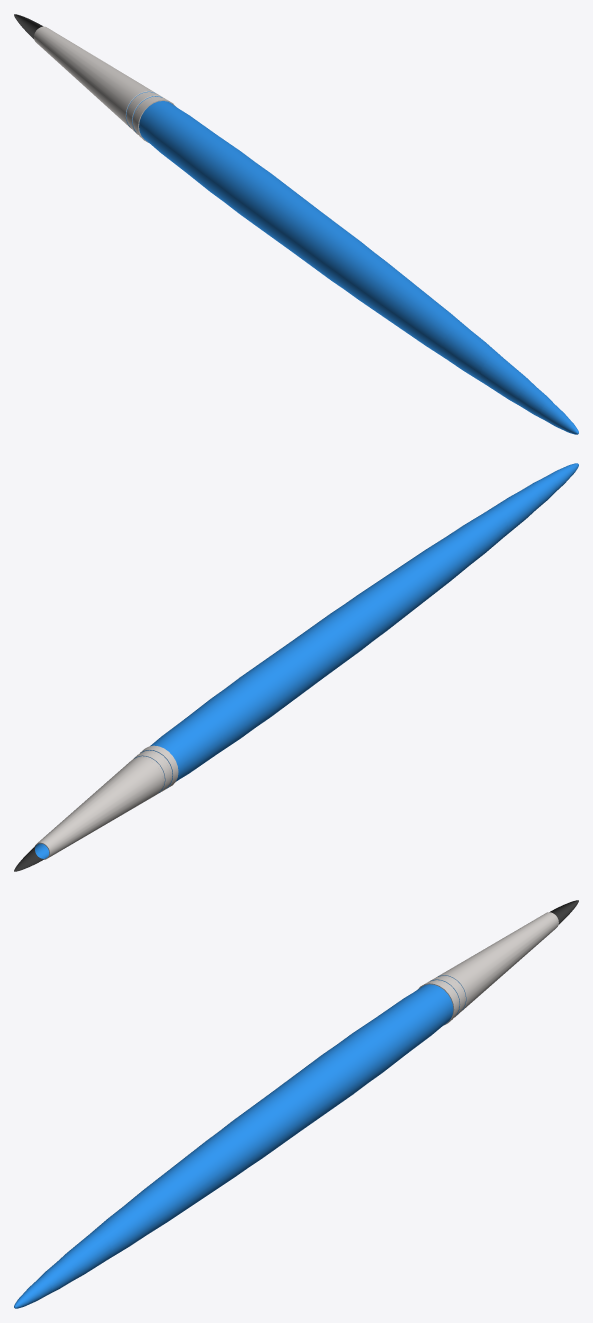
The model's file is paintingBrush.glb.
3 views of the same model, one above another, from view 1: azimuth 30°, elevation 25°; view 2: azimuth 150°, elevation 25°; view 3: azimuth 330°, elevation 25° (orthographic). The views are drawn at different scales.
Parts seen in each view (by area): view 1: cetkica okrugla_Paint - gloss blue_0, cetkica okrugla_Paint - gloss blue_0.003, cetkica okrugla_Steel_0; view 2: cetkica okrugla_Paint - gloss blue_0, cetkica okrugla_Paint - gloss blue_0.003, cetkica okrugla_Steel_0; view 3: cetkica okrugla_Paint - gloss blue_0, cetkica okrugla_Paint - gloss blue_0.003, cetkica okrugla_Steel_0.
Boxes of the visible parts, bbox=[...] form: cetkica okrugla_Paint - gloss blue_0: bbox=[145, 105, 578, 434]; cetkica okrugla_Paint - gloss blue_0.003: bbox=[126, 91, 578, 434]; cetkica okrugla_Steel_0: bbox=[34, 26, 175, 142]; cetkica okrugla_Paint - gloss blue_0: bbox=[152, 463, 578, 779]; cetkica okrugla_Paint - gloss blue_0.003: bbox=[35, 463, 578, 858]; cetkica okrugla_Steel_0: bbox=[34, 745, 178, 859]; cetkica okrugla_Paint - gloss blue_0: bbox=[14, 989, 446, 1308]; cetkica okrugla_Paint - gloss blue_0.003: bbox=[14, 975, 466, 1308]; cetkica okrugla_Steel_0: bbox=[418, 912, 558, 1025].
Bounding box in the file's own units: 0.0103 × 0.0102 × 0.2268.
